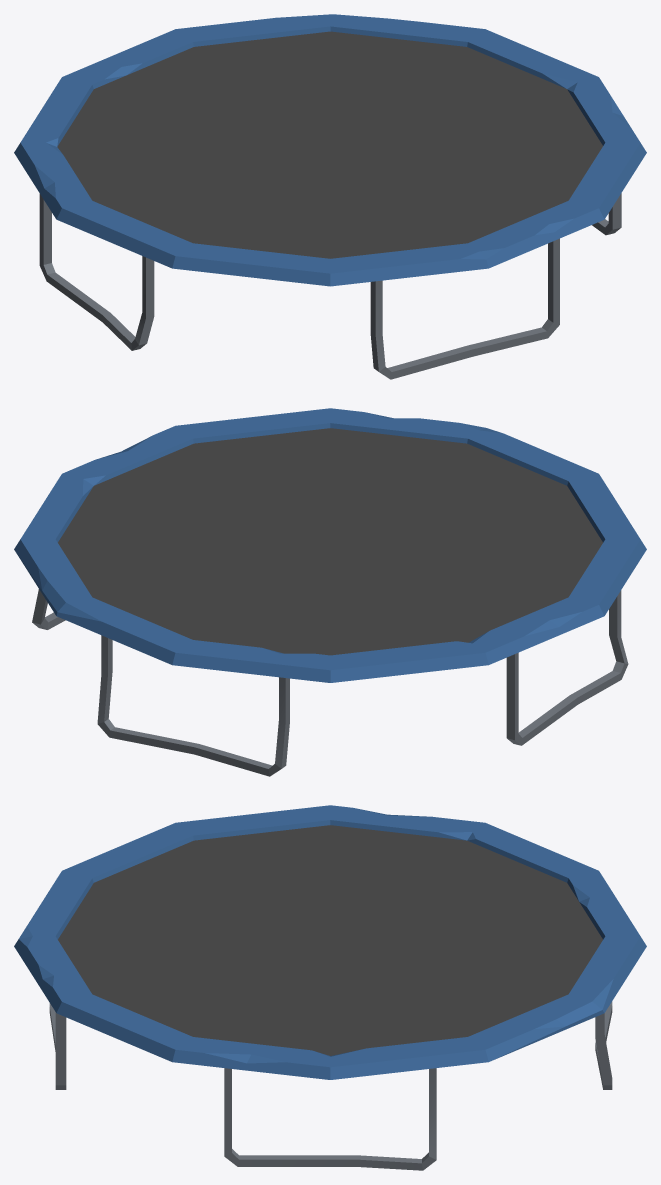
Rendered from Trampoline.obj.
3 views of the same model, one above another, from view 1: azimuth 30°, elevation 25°; view 2: azimuth 150°, elevation 25°; view 3: azimuth 270°, elevation 25° (orthographic).
Parts seen in each view (by area): view 1: Trampoline; view 2: Trampoline; view 3: Trampoline.
Boxes of the visible parts, x1,y1,x2,y2 form: Trampoline: (14,14,646,379); Trampoline: (14,408,646,776); Trampoline: (14,805,646,1170).
Bounding box in the file's own units: 4 × 0.8 × 4.
1 material, 1 textured.
